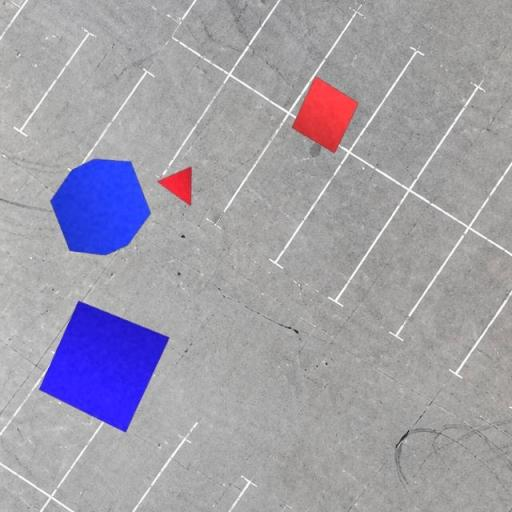BLUE_SQUARE: (38, 300, 170, 433)
RED_SQUARE: (290, 75, 360, 154)
